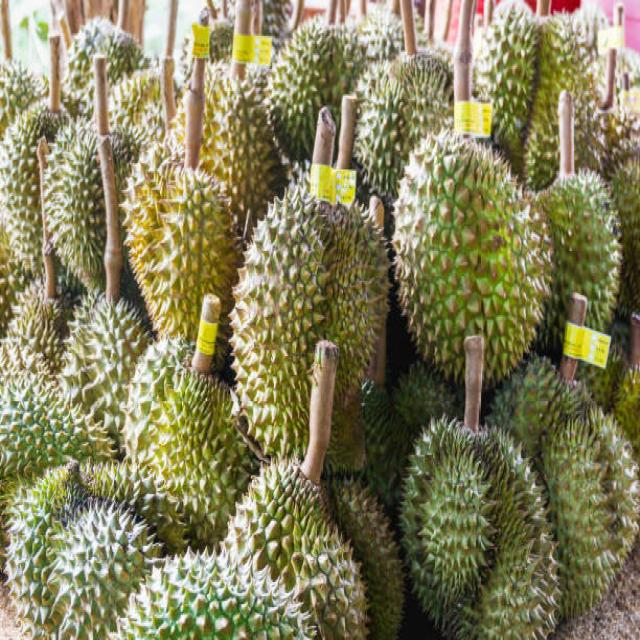mature: (231, 186, 388, 472), (392, 129, 549, 383), (122, 141, 239, 361)
